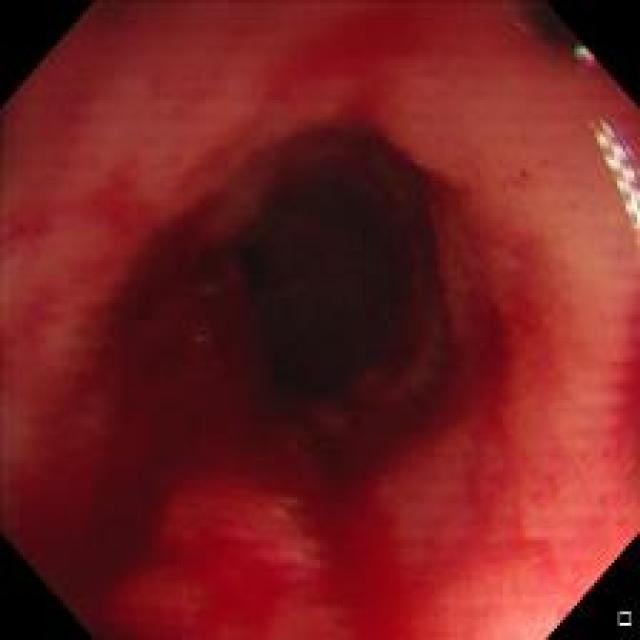blood: (39, 226, 259, 598), (262, 396, 392, 636), (398, 302, 515, 446)
color misalignment: (591, 115, 639, 232), (572, 30, 608, 84)
contrast: (206, 109, 448, 425)
